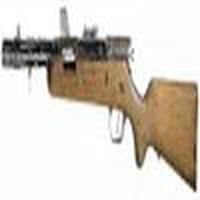gun: (1, 15, 196, 199)
